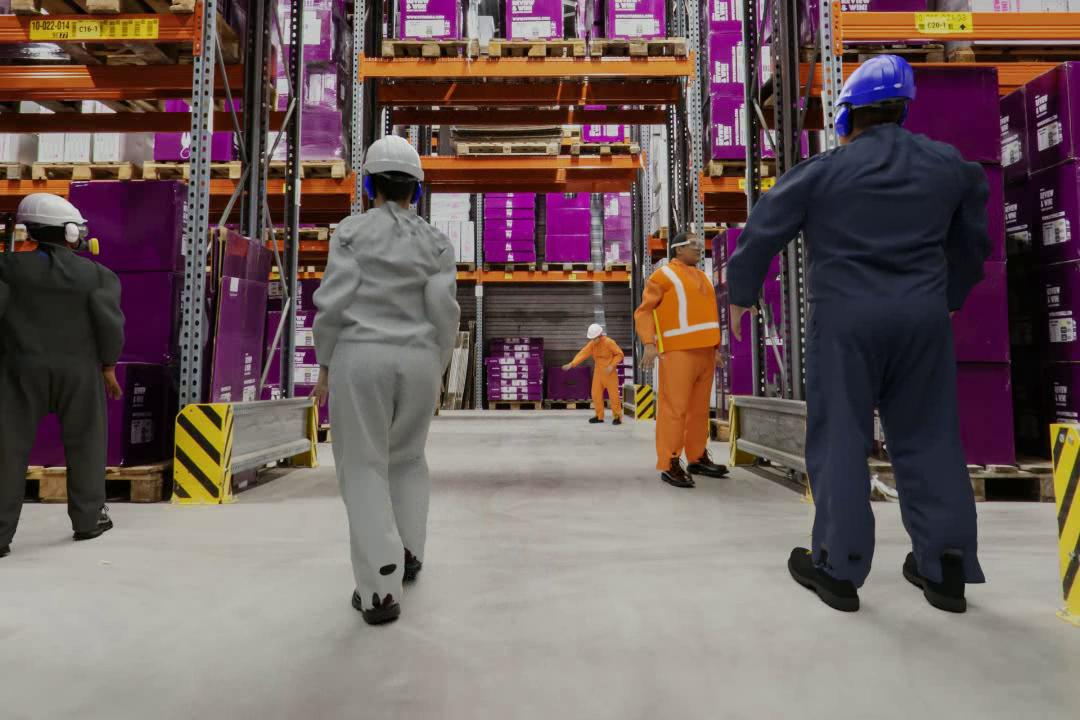Goggles: (671, 238, 707, 249)
Helmet: (802, 54, 926, 129), (365, 134, 432, 176), (22, 191, 88, 229), (584, 318, 605, 340)
Jacket: (643, 266, 726, 349)
Shoes: (895, 535, 985, 635), (780, 537, 871, 619), (341, 568, 406, 645), (389, 531, 434, 580), (66, 508, 120, 540), (694, 444, 734, 478), (664, 455, 698, 494)
